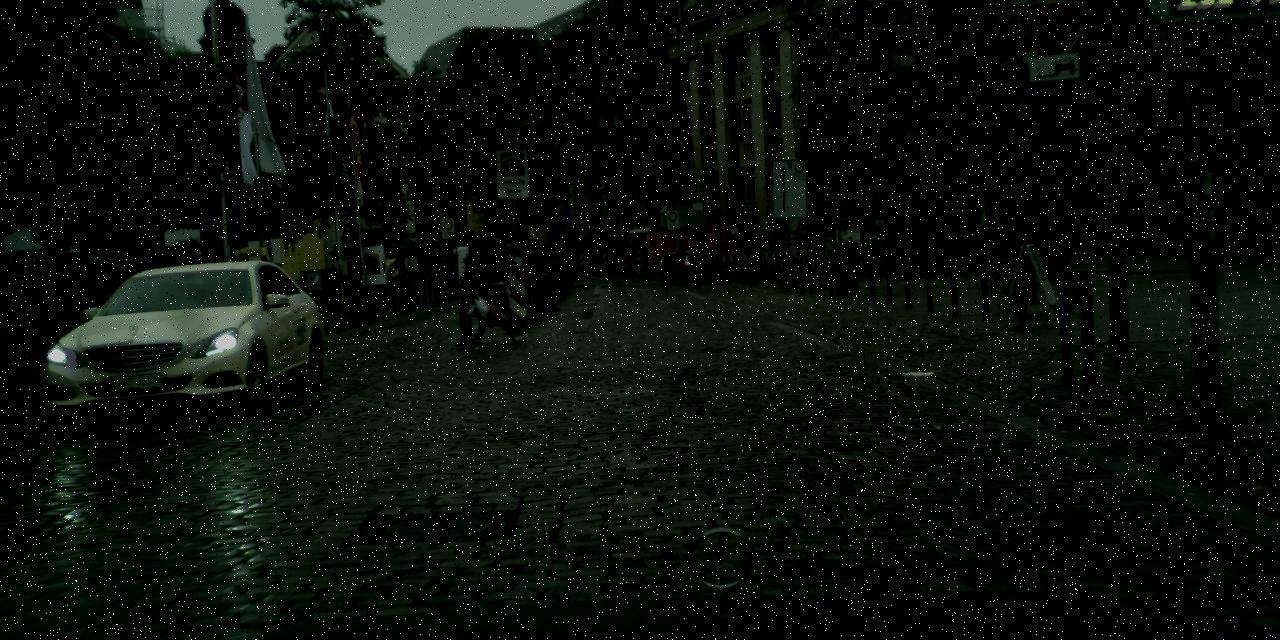ped: (456, 227, 502, 342), (470, 230, 515, 340), (493, 241, 524, 317), (521, 238, 551, 314), (436, 253, 458, 289), (891, 235, 908, 278), (384, 256, 397, 286), (395, 258, 406, 286)
